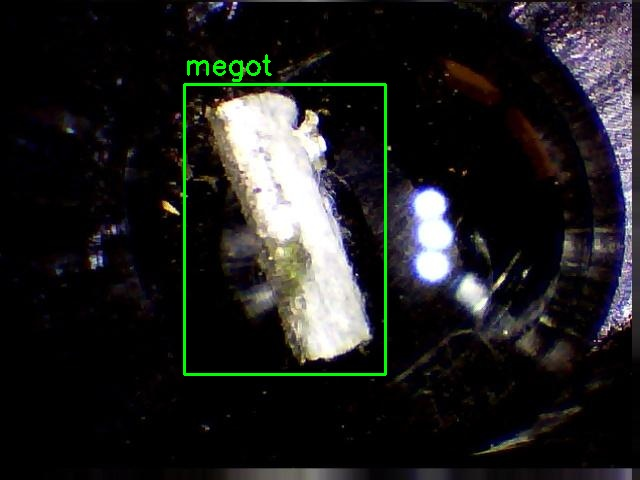megot: (184, 84, 385, 374)
